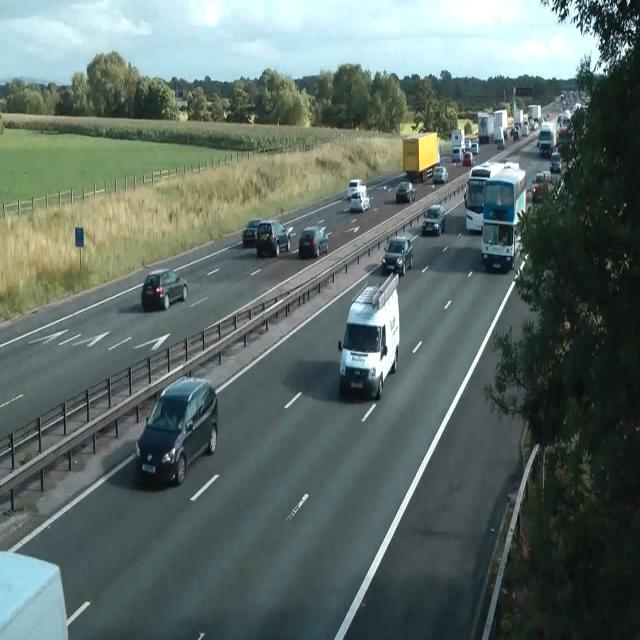bus: (141, 269, 187, 311), (381, 234, 413, 276), (422, 203, 446, 236), (242, 218, 264, 246), (350, 188, 370, 212), (396, 180, 416, 202), (346, 179, 366, 200), (432, 165, 448, 183), (549, 151, 561, 173), (462, 150, 474, 166), (470, 141, 480, 155), (496, 139, 504, 149)
car: (480, 161, 526, 272), (464, 160, 504, 233)
jeep: (135, 374, 219, 486), (255, 219, 291, 257), (298, 225, 328, 259), (532, 169, 552, 202), (537, 124, 553, 156)
minibus: (338, 270, 400, 400), (402, 132, 440, 182), (478, 108, 508, 144), (493, 109, 507, 150), (451, 128, 465, 163), (478, 112, 493, 143), (527, 104, 541, 126)
